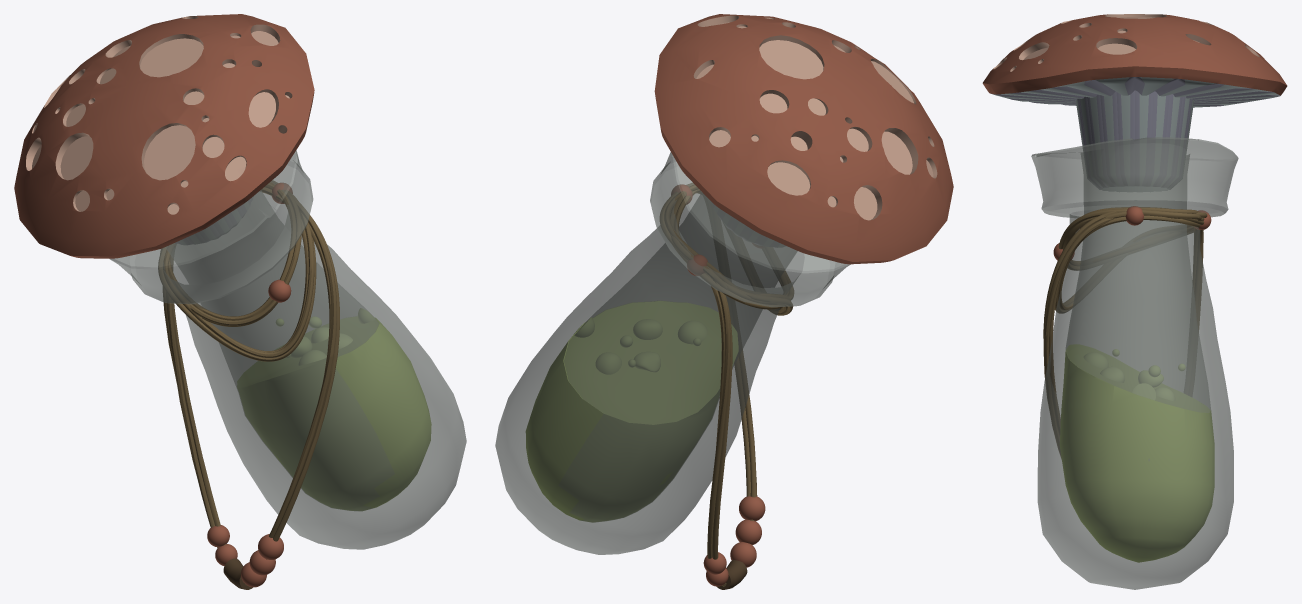
Rendered from Potion.fbx.
3 renders of one model, left to right at view 1: azimuth 30°, elevation 25°; view 2: azimuth 150°, elevation 25°; view 3: azimuth 270°, elevation 25°, orthographic. The views are drawn at different scales.
Parts seen in each view (by area): view 1: pCylinder55, polySurface4, pCylinder15, sweep1, pCylinder3; view 2: pCylinder55, polySurface4, pCylinder15, sweep1, pCylinder3; view 3: pCylinder55, pCylinder15, polySurface4, pCylinder3, sweep1.
Boxes of the visible parts, left/top/right/bottom form: pCylinder55: left=109, top=150, right=466, bottom=549; polySurface4: left=14, top=14, right=314, bottom=587; pCylinder15: left=237, top=316, right=431, bottom=510; sweep1: left=158, top=180, right=339, bottom=585; pCylinder3: left=175, top=196, right=253, bottom=244; pCylinder55: left=495, top=152, right=850, bottom=554; polySurface4: left=654, top=14, right=953, bottom=586; pCylinder15: left=525, top=301, right=738, bottom=522; sweep1: left=660, top=183, right=793, bottom=586; pCylinder3: left=711, top=202, right=784, bottom=247; pCylinder55: left=1031, top=137, right=1238, bottom=589; pCylinder15: left=1059, top=344, right=1214, bottom=562; polySurface4: left=982, top=14, right=1287, bottom=260; pCylinder3: left=1075, top=90, right=1194, bottom=191; sweep1: left=1043, top=207, right=1207, bottom=457.
Bounding box in the file's own units: 2.43 × 3.13 × 1.7.
